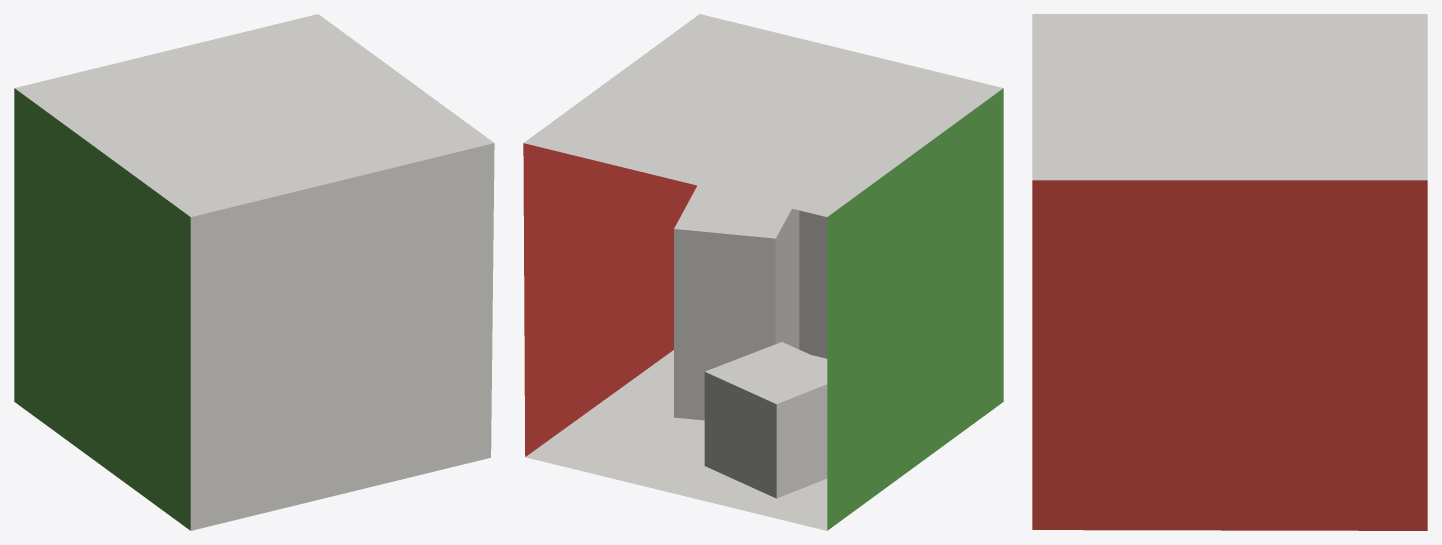
Rendered from cornell.gltf.
3 views of the same model, side by side, from view 1: azimuth 30°, elevation 25°; view 2: azimuth 150°, elevation 25°; view 3: azimuth 270°, elevation 25° (orthographic). The views are drawn at different scales.
Visible parts, largest first — view 1: walls, green wall; view 2: walls, green wall, red wall, tall block, short block; view 3: red wall, walls.
Boxes of the visible parts, left/top/right/bottom form: walls: left=14, top=14, right=494, bottom=530; green wall: left=14, top=88, right=190, bottom=530; walls: left=524, top=14, right=1003, bottom=530; green wall: left=827, top=88, right=1003, bottom=530; red wall: left=523, top=143, right=696, bottom=456; tall block: left=674, top=185, right=799, bottom=420; short block: left=704, top=342, right=827, bottom=498; red wall: left=1032, top=180, right=1427, bottom=530; walls: left=1032, top=14, right=1427, bottom=180.
Size of the model in its own units: 5.56 by 5.49 by 5.59.
